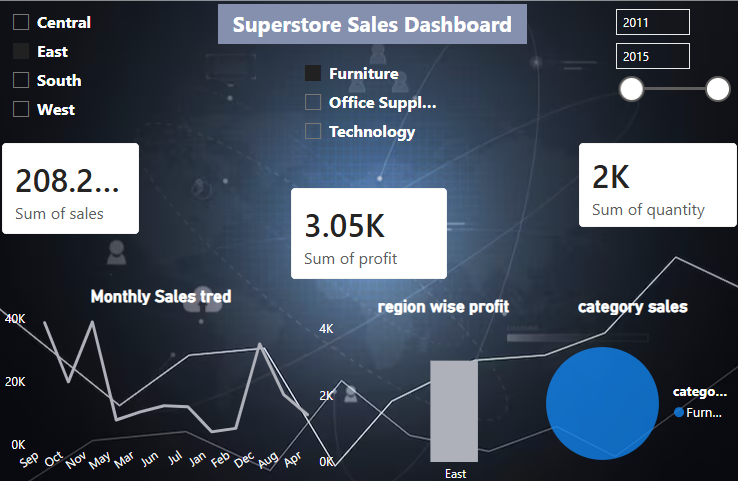

What the dashboard file says about the page in this screenshot:
{"tool":"powerbi","page":{"name":"Page 2","canvas":[1500,1300],"ordinal":1},"visuals":[{"type":"textbox","box":[599,405,309,40],"z":0},{"type":"cardVisual","fields":{"Data":["Sum(superstore sales.sales)"]},"box":[366,527,171,125],"z":1000},{"type":"cardVisual","fields":{"Data":["Sum(superstore sales.profit)"]},"box":[655,572,190,125],"z":2000},{"type":"cardVisual","fields":{"Data":["Sum(superstore sales.quantity)"]},"box":[943,527,192,118],"z":3000},{"type":"slicer","fields":{"Values":["superstore sales.region"]},"box":[381,403,127,129],"z":4000},{"type":"slicer","fields":{"Values":["superstore sales.category"]},"box":[673,454,153,118],"z":5000},{"type":"slicer","fields":{"Values":["superstore sales.year"]},"box":[984,400,136,132],"z":6000},{"type":"lineChart","title":"Monthly Sales tred","fields":{"Y":["Sum(superstore sales.sales)"],"Category":["superstore sales.month_name"]},"box":[381,687,322,206],"z":6001},{"type":"clusteredColumnChart","title":"region wise profit","fields":{"Category":["superstore sales.region"],"Y":["Sum(superstore sales.profit)"]},"box":[695,697,259,196],"z":6002},{"type":"pieChart","title":" category sales","fields":{"Category":["superstore sales.category"],"Y":["Sum(superstore sales.sales)"]},"box":[908,697,212,196],"z":6003}]}

Visuals, with their boxes on the page's 1500x1300 design canvas (x1, y1, x2, y2). These are canvas units, not pixel positions in the 738x481 screenshot, which may show the page scaled, cropped or inside an application window:
textbox: 599 405 908 445
cardVisual - Sum(superstore sales.sales): 366 527 537 652
cardVisual - Sum(superstore sales.profit): 655 572 845 697
cardVisual - Sum(superstore sales.quantity): 943 527 1135 645
slicer - superstore sales.region: 381 403 508 532
slicer - superstore sales.category: 673 454 826 572
slicer - superstore sales.year: 984 400 1120 532
"Monthly Sales tred" lineChart: 381 687 703 893
"region wise profit" clusteredColumnChart: 695 697 954 893
" category sales" pieChart: 908 697 1120 893
